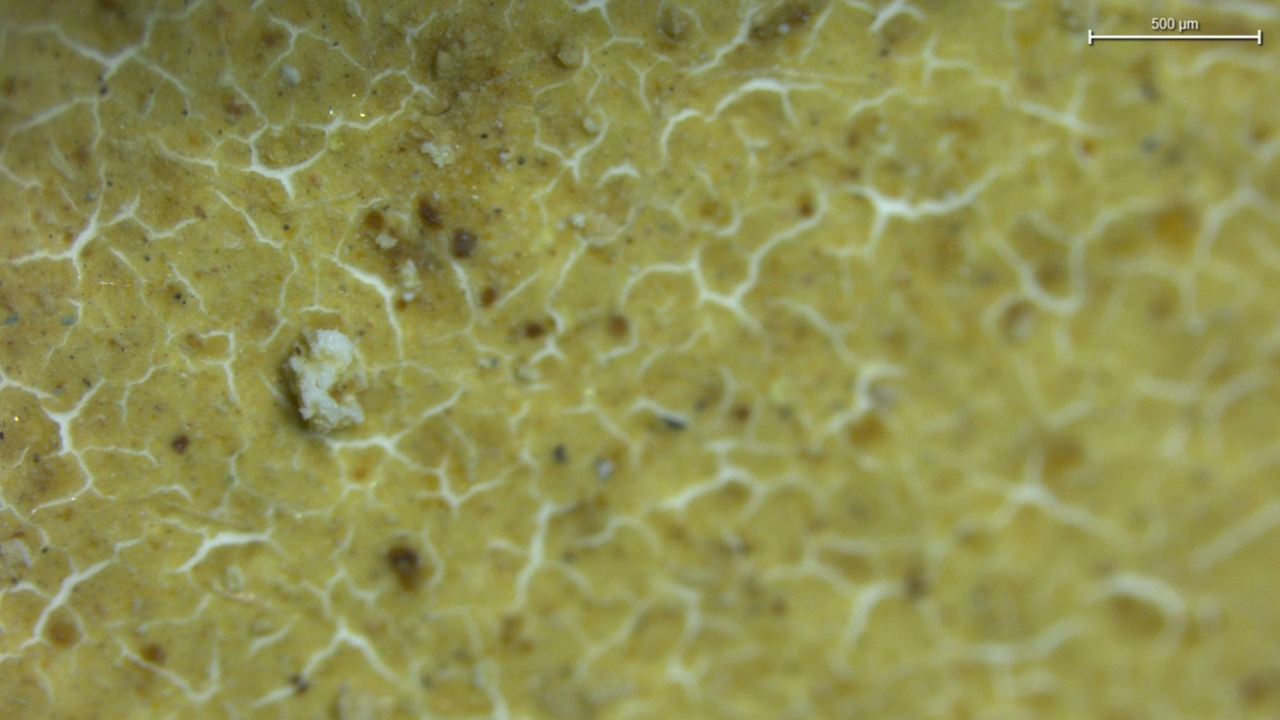microplastic_fragment: (288, 329, 363, 430)
